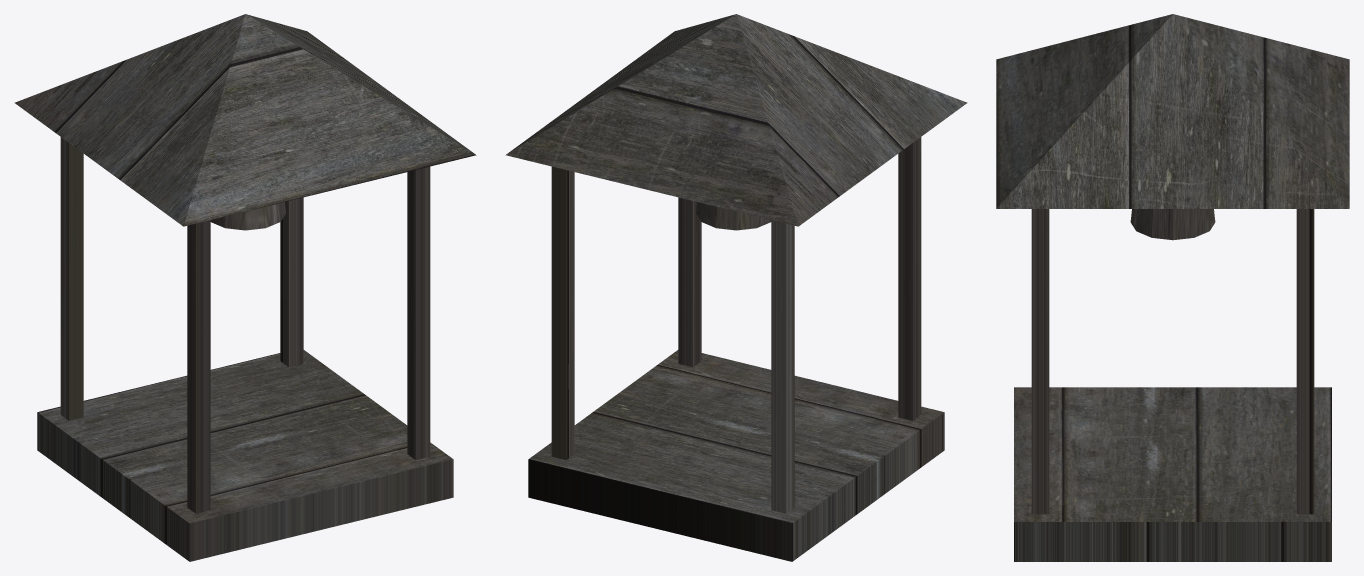
File: bell_tower.glb
3 renders of one model, left to right at view 1: azimuth 30°, elevation 25°; view 2: azimuth 150°, elevation 25°; view 3: azimuth 270°, elevation 25°, orthographic. The views are drawn at different scales.
Parts seen in each view (by area): view 1: BellTower; view 2: BellTower; view 3: BellTower.
Part boxes in pixels (<box>): BellTower: <box>14,14,476,561</box>; BellTower: <box>505,14,967,561</box>; BellTower: <box>996,14,1349,561</box>.
Bounding box in the file's own units: 4 × 6 × 4.
1 material, 1 textured.
